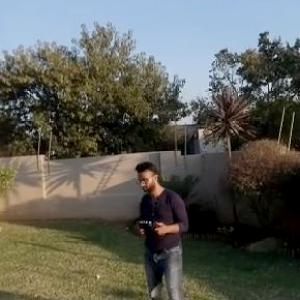follow: (128, 158, 193, 299)
